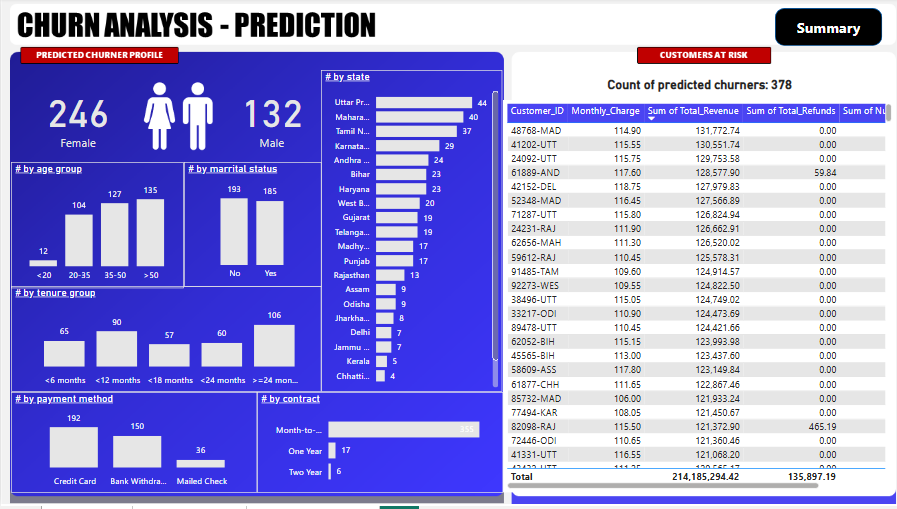

What the dashboard file says about the page in this screenshot:
{"tool":"powerbi","page":{"name":"Churn Prediction","canvas":[1280,720],"ordinal":2},"visuals":[{"type":"tableEx","fields":{"Values":["prob_Services.Customer_ID","prob_Services.Monthly_Charge","Sum(prob_Services.Total_Revenue)","Sum(prob_Services.Total_Refunds)","Sum(prob_Services.Number_of_Referrals)"]},"box":[711.5,144.8,556,556],"z":0},{"type":"card","fields":{"Values":["tbl_measure.Title predicted churner"]},"box":[842,101.9,296.8,42.9],"z":1000},{"type":"card","fields":{"Values":["tbl_measure.Count predicted churner"]},"box":[30.4,101.9,159.1,130.5],"z":2000},{"type":"card","fields":{"Values":["tbl_measure.Count predicted churner"]},"box":[312.8,101.9,141.2,130.5],"z":3000},{"type":"clusteredColumnChart","title":"# by age group","fields":{"Category":["mapping AgeGrp.Age group"],"Y":["CountNonNull(Predictions.Customer_ID)"]},"box":[14.3,232.4,244.9,178.8],"z":4000},{"type":"clusteredColumnChart","title":"# by marrital status","fields":{"Y":["CountNonNull(Predictions.Customer_ID)"],"Category":["Predictions.Married"]},"box":[259.2,232.4,194.9,177],"z":5000},{"type":"clusteredColumnChart","title":"# by tenure group","fields":{"Y":["CountNonNull(Predictions.Customer_ID)"],"Category":["mapping TenureGrp.Tenure Grp"]},"box":[14.3,407.6,439.8,150.2],"z":6000},{"type":"clusteredColumnChart","title":"# by payment method","fields":{"Y":["CountNonNull(Predictions.Customer_ID)"],"Category":["Predictions.Payment_Method"]},"box":[14.3,557.8,348.6,143],"z":7000},{"type":"clusteredBarChart","title":"# by contract","fields":{"Category":["Predictions.Contract"],"Y":["CountNonNull(Predictions.Customer_ID)"]},"box":[362.9,557.8,348.6,143],"z":8000},{"type":"clusteredBarChart","title":"# by state","fields":{"Y":["CountNonNull(Predictions.Customer_ID)"],"Category":["Predictions.State"]},"box":[454.1,101.9,257.4,455.9],"z":9000},{"type":"image","box":[184.1,100.1,134.1,132.3],"z":10000},{"type":"shape","box":[1097.7,14.3,152,53.6],"z":10001}]}

Visuals, with their boxes in screenshot pixels (x1, y1, x2, y2), scaled from the page's 1280x720 canvas onto the 897x509 screenshot:
tableEx - prob_Services.Customer_ID x prob_Services.Monthly_Charge: x1=499 y1=102 x2=888 y2=495
card - tbl_measure.Title predicted churner: x1=590 y1=72 x2=798 y2=102
card - tbl_measure.Count predicted churner: x1=21 y1=72 x2=133 y2=164
card - tbl_measure.Count predicted churner: x1=219 y1=72 x2=318 y2=164
"# by age group" clusteredColumnChart: x1=10 y1=164 x2=182 y2=291
"# by marrital status" clusteredColumnChart: x1=182 y1=164 x2=318 y2=289
"# by tenure group" clusteredColumnChart: x1=10 y1=288 x2=318 y2=394
"# by payment method" clusteredColumnChart: x1=10 y1=394 x2=254 y2=495
"# by contract" clusteredBarChart: x1=254 y1=394 x2=499 y2=495
"# by state" clusteredBarChart: x1=318 y1=72 x2=499 y2=394
image: x1=129 y1=71 x2=223 y2=164
shape: x1=769 y1=10 x2=876 y2=48
